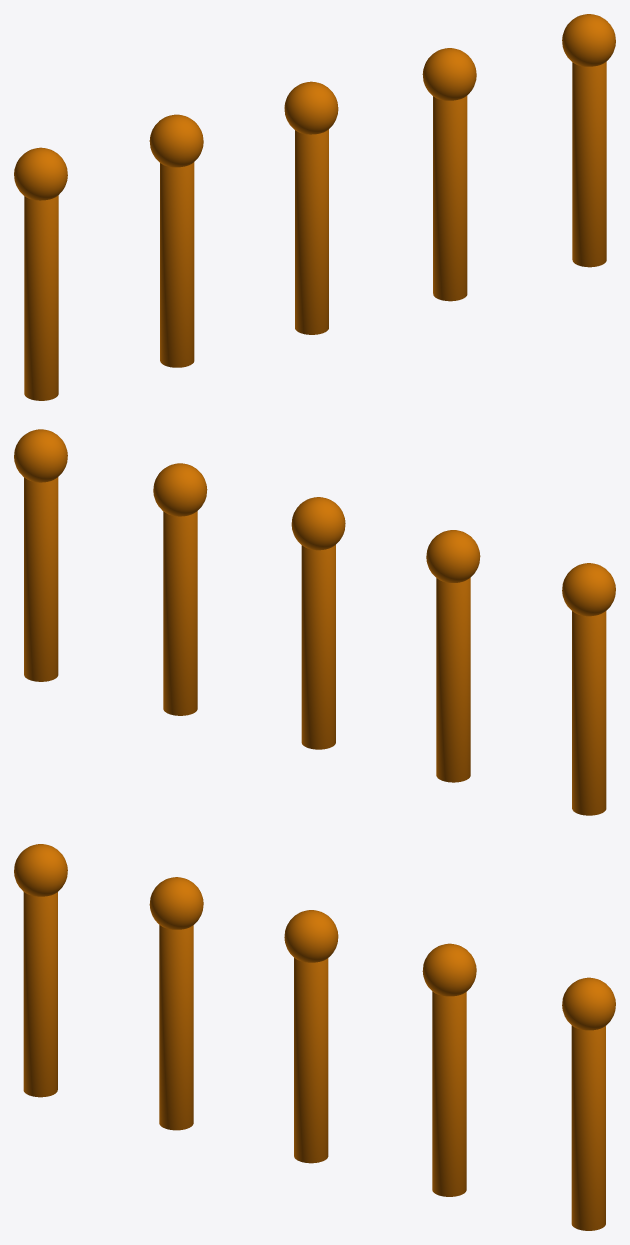
File: whole map.fbx
3 views of the same model, one above another, from view 1: azimuth 30°, elevation 25°; view 2: azimuth 150°, elevation 25°; view 3: azimuth 330°, elevation 25° (orthographic).
Visible parts, largest first — view 1: bronze rod; view 2: bronze rod; view 3: bronze rod.
Boxes of the visible parts, x1,y1,x2,y2 form: bronze rod: (14, 14, 615, 400); bronze rod: (14, 429, 615, 815); bronze rod: (14, 844, 615, 1230).
Size of the model in its own units: 34.48 by 13.47 by 2.71.
